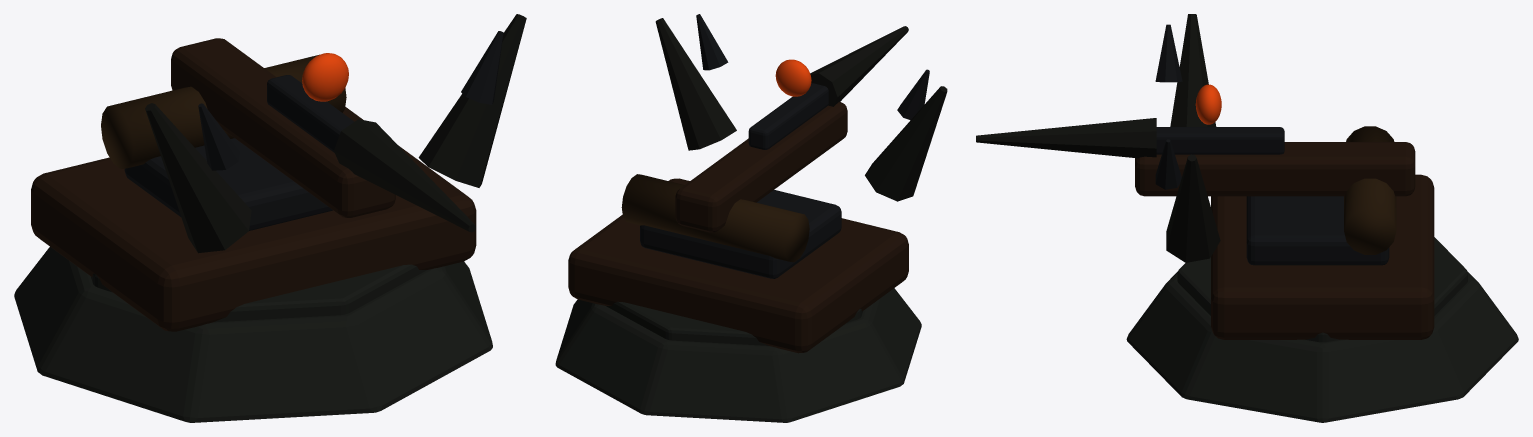
The model's file is TowerDemon0.obj.
3 renders of one model, left to right at view 1: azimuth 30°, elevation 25°; view 2: azimuth 150°, elevation 25°; view 3: azimuth 270°, elevation 25°, orthographic. The views are drawn at different scales.
Visible parts, largest first — view 1: charred_stone_footing_lower_course, dark_oak_altar_bed, demon_stock, bone_bow_limb, black_iron_pivot, bone_bow_limb.001, bronze_blood_winch, bone_demon_bolt, charred_stone_footing_upper_course, iron_demon_guide, amber_cursed_sight, iron_limb_thorn.001 (+1 smaller); view 2: charred_stone_footing_lower_course, dark_oak_altar_bed, demon_stock, bronze_blood_winch, black_iron_pivot, bone_bow_limb.001, bone_bow_limb, charred_stone_footing_upper_course, bone_demon_bolt, iron_demon_guide, amber_cursed_sight, iron_limb_thorn.001 (+1 smaller); view 3: charred_stone_footing_lower_course, dark_oak_altar_bed, demon_stock, black_iron_pivot, bone_demon_bolt, bronze_blood_winch, bone_bow_limb.001, iron_demon_guide, charred_stone_footing_upper_course, bone_bow_limb, iron_limb_thorn, iron_limb_thorn.001 (+1 smaller).
Part boxes in pixels (bbox=[...]): charred_stone_footing_lower_course: bbox=[14, 247, 492, 422]; dark_oak_altar_bed: bbox=[31, 107, 476, 331]; demon_stock: bbox=[171, 38, 395, 217]; bone_bow_limb: bbox=[145, 103, 251, 253]; black_iron_pivot: bbox=[124, 138, 332, 230]; bone_bow_limb.001: bbox=[418, 14, 526, 187]; bronze_blood_winch: bbox=[101, 54, 346, 168]; bone_demon_bolt: bbox=[334, 119, 476, 232]; charred_stone_footing_upper_course: bbox=[91, 264, 426, 322]; iron_demon_guide: bbox=[267, 75, 354, 152]; amber_cursed_sight: bbox=[302, 53, 348, 101]; iron_limb_thorn.001: bbox=[461, 31, 503, 104]; charred_stone_footing_lower_course: bbox=[555, 288, 921, 422]; dark_oak_altar_bed: bbox=[568, 178, 908, 353]; demon_stock: bbox=[675, 101, 847, 232]; bronze_blood_winch: bbox=[621, 174, 809, 262]; black_iron_pivot: bbox=[640, 190, 841, 278]; bone_bow_limb.001: bbox=[655, 18, 736, 150]; bone_bow_limb: bbox=[865, 86, 947, 201]; charred_stone_footing_upper_course: bbox=[606, 301, 862, 345]; bone_demon_bolt: bbox=[810, 26, 908, 106]; iron_demon_guide: bbox=[748, 83, 828, 149]; amber_cursed_sight: bbox=[775, 59, 811, 96]; iron_limb_thorn.001: bbox=[696, 14, 728, 70]; charred_stone_footing_lower_course: bbox=[1126, 271, 1518, 422]; dark_oak_altar_bed: bbox=[1211, 174, 1434, 339]; demon_stock: bbox=[1135, 142, 1415, 196]; black_iron_pivot: bbox=[1246, 196, 1389, 265]; bone_demon_bolt: bbox=[976, 118, 1156, 158]; bronze_blood_winch: bbox=[1344, 126, 1396, 254]; bone_bow_limb.001: bbox=[1166, 154, 1220, 262]; iron_demon_guide: bbox=[1156, 127, 1284, 154]; charred_stone_footing_upper_course: bbox=[1177, 237, 1467, 342]; bone_bow_limb: bbox=[1170, 14, 1216, 126]; iron_limb_thorn: bbox=[1155, 24, 1182, 82]; iron_limb_thorn.001: bbox=[1155, 139, 1181, 189].
Size of the model in its own units: 1.65 by 1.2 by 2.29.
